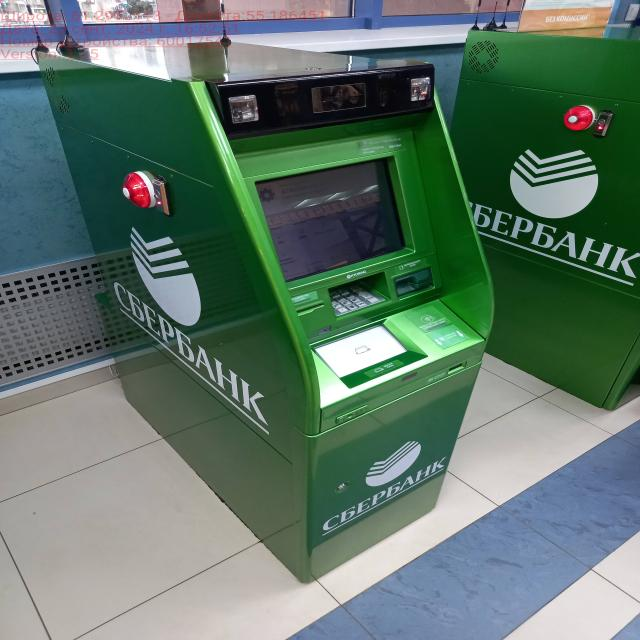bank: (32, 41, 495, 585), (432, 28, 640, 414)
